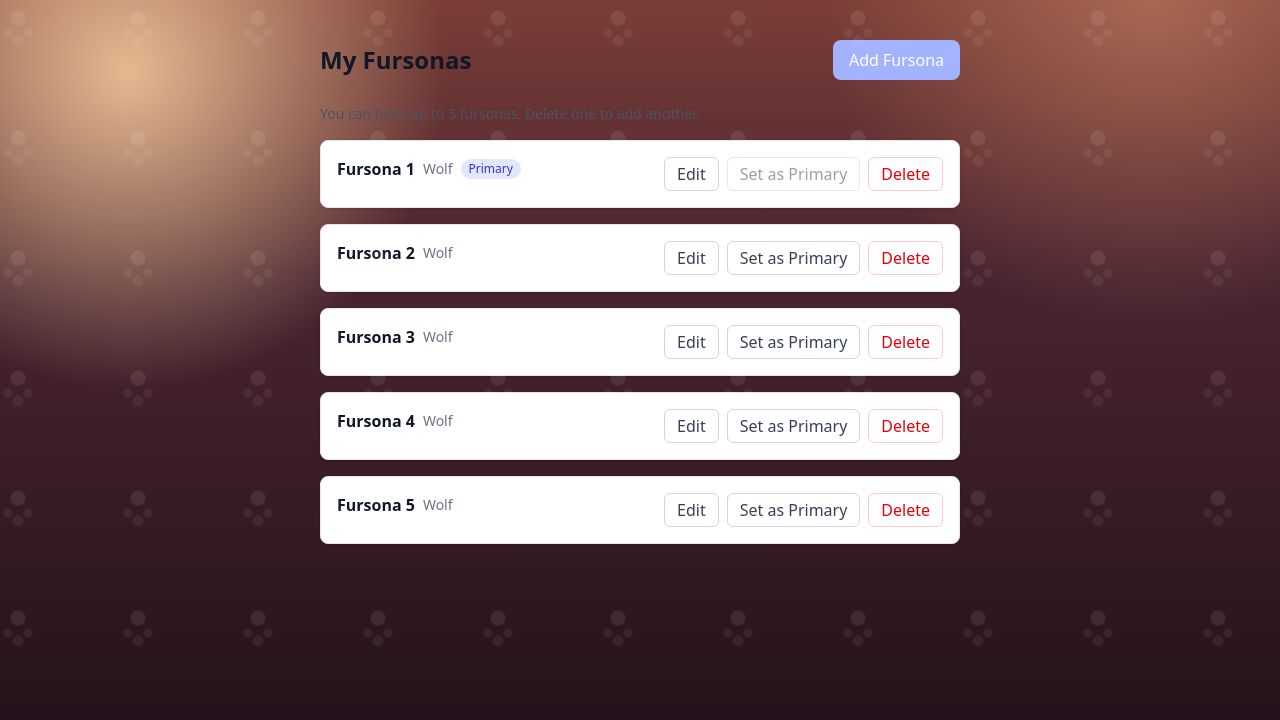
FursonaManagerPage › re-enables adding a fursona after deleting from the 5-fursona limit
Check: the button "Add Fursona" is disabled, box [833,40,960,80]
Click the button "Delete" in the row of "Fursona 5": (906, 510) [868,493,943,527]
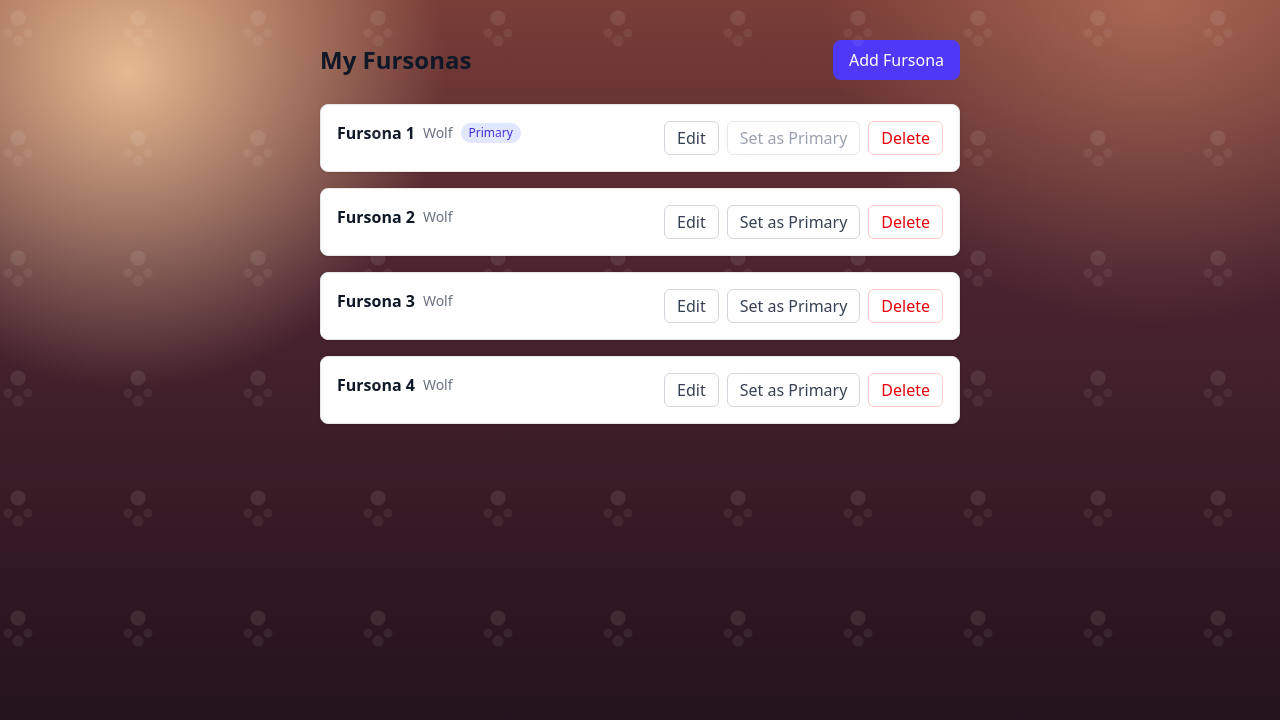
Check: the button "Add Fursona" is enabled, box [833,40,960,80]
Check: the text "You can have up to 5 fursonas. Delete one to add another." is gone
